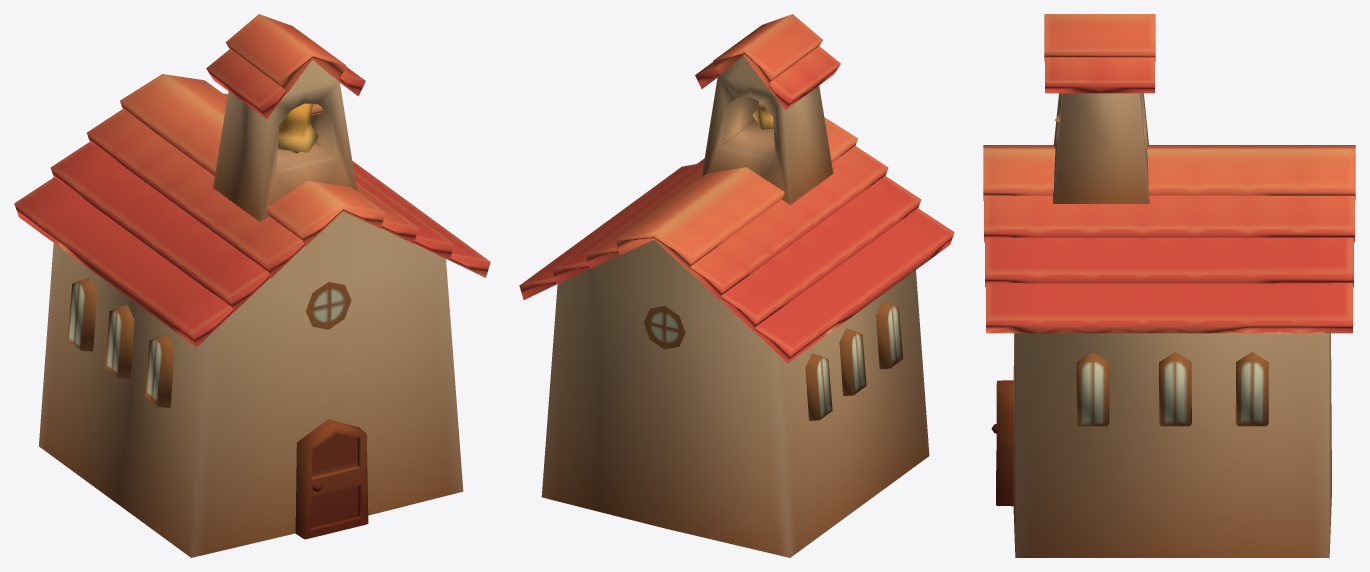
Rendered from SM_Chapel_01_LOD2.fbx.
3 renders of one model, left to right at view 1: azimuth 30°, elevation 25°; view 2: azimuth 150°, elevation 25°; view 3: azimuth 270°, elevation 25°, orthographic. The views are drawn at different scales.
Visible parts, largest first — view 1: SM_Chapel_01_LOD2; view 2: SM_Chapel_01_LOD2; view 3: SM_Chapel_01_LOD2.
Part boxes in pixels (bbox=[...]): SM_Chapel_01_LOD2: bbox=[14, 14, 490, 557]; SM_Chapel_01_LOD2: bbox=[519, 14, 954, 557]; SM_Chapel_01_LOD2: bbox=[983, 14, 1355, 557].
Size of the model in its own units: 1058 by 1561 by 1109.
